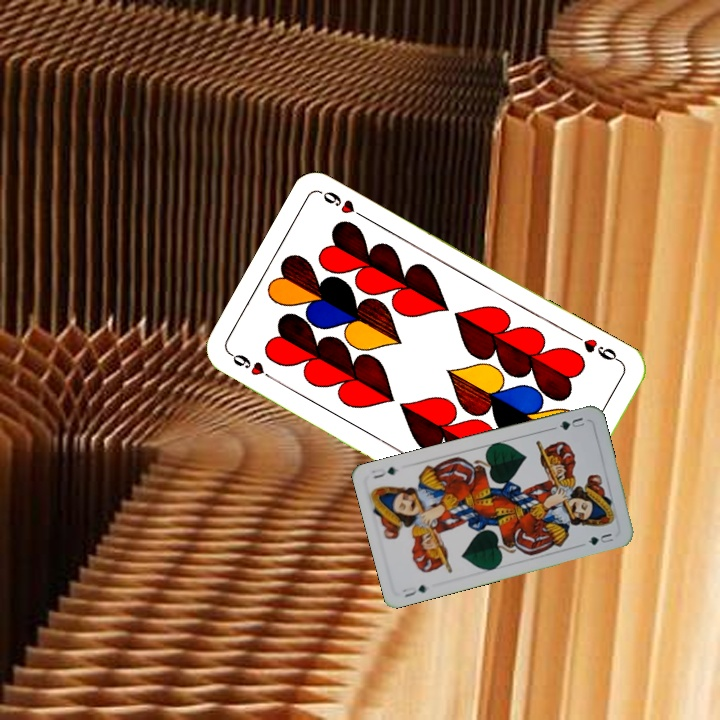GU: (555, 413, 587, 433), (399, 581, 429, 600)
H9: (570, 330, 624, 366), (227, 349, 280, 385)
